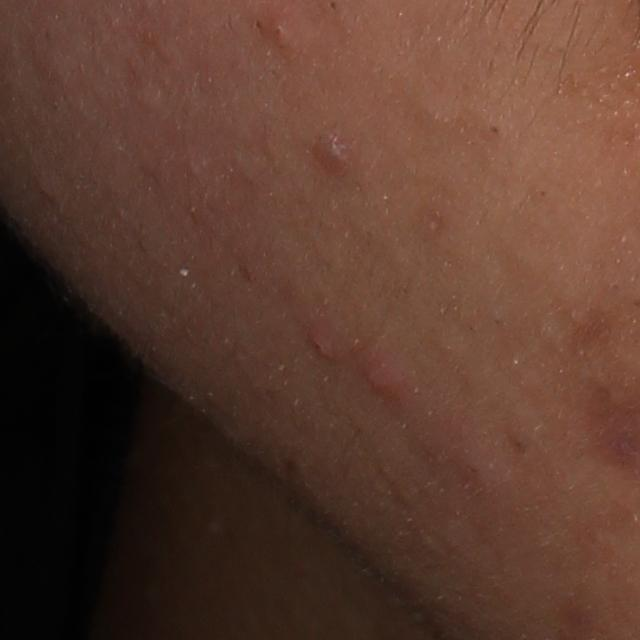comedo: (312, 128, 365, 179), (267, 15, 297, 45), (488, 119, 504, 139)
papule: (362, 340, 405, 400), (305, 326, 339, 360)
